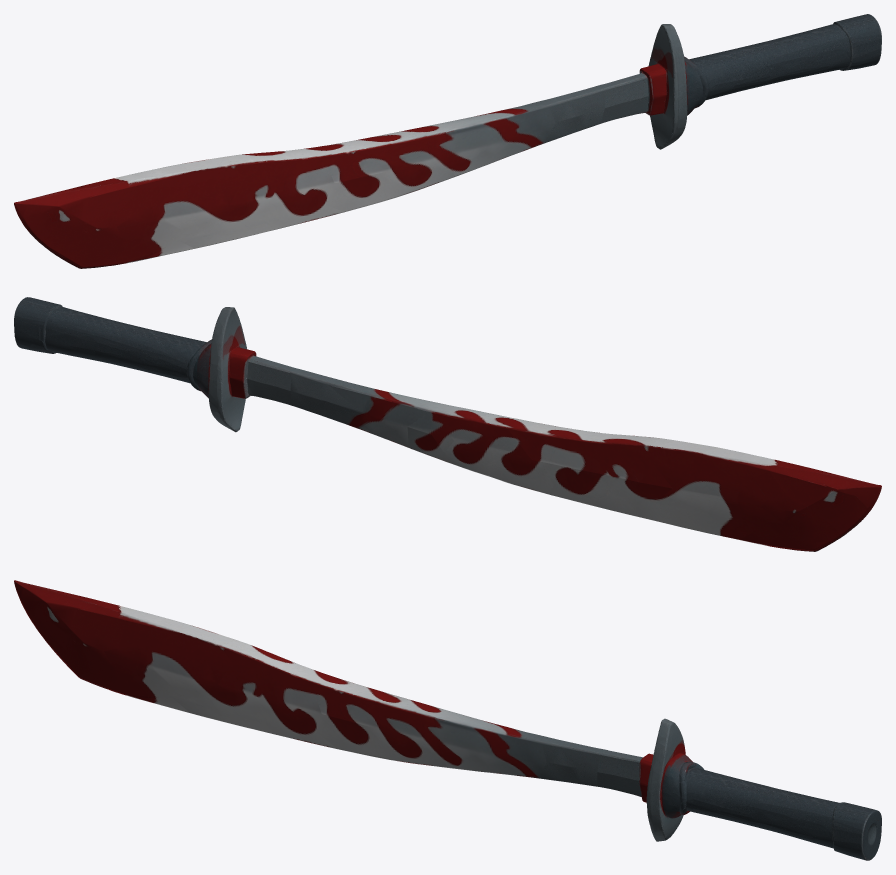
The picture shows the model from 3 angles, top to bottom: view 1: azimuth 30°, elevation 25°; view 2: azimuth 150°, elevation 25°; view 3: azimuth 330°, elevation 25°; orthographic projection.
Size of the model in its own units: 1.9 by 0.2583 by 0.11.
Materials: 1 (1 with a texture image).
